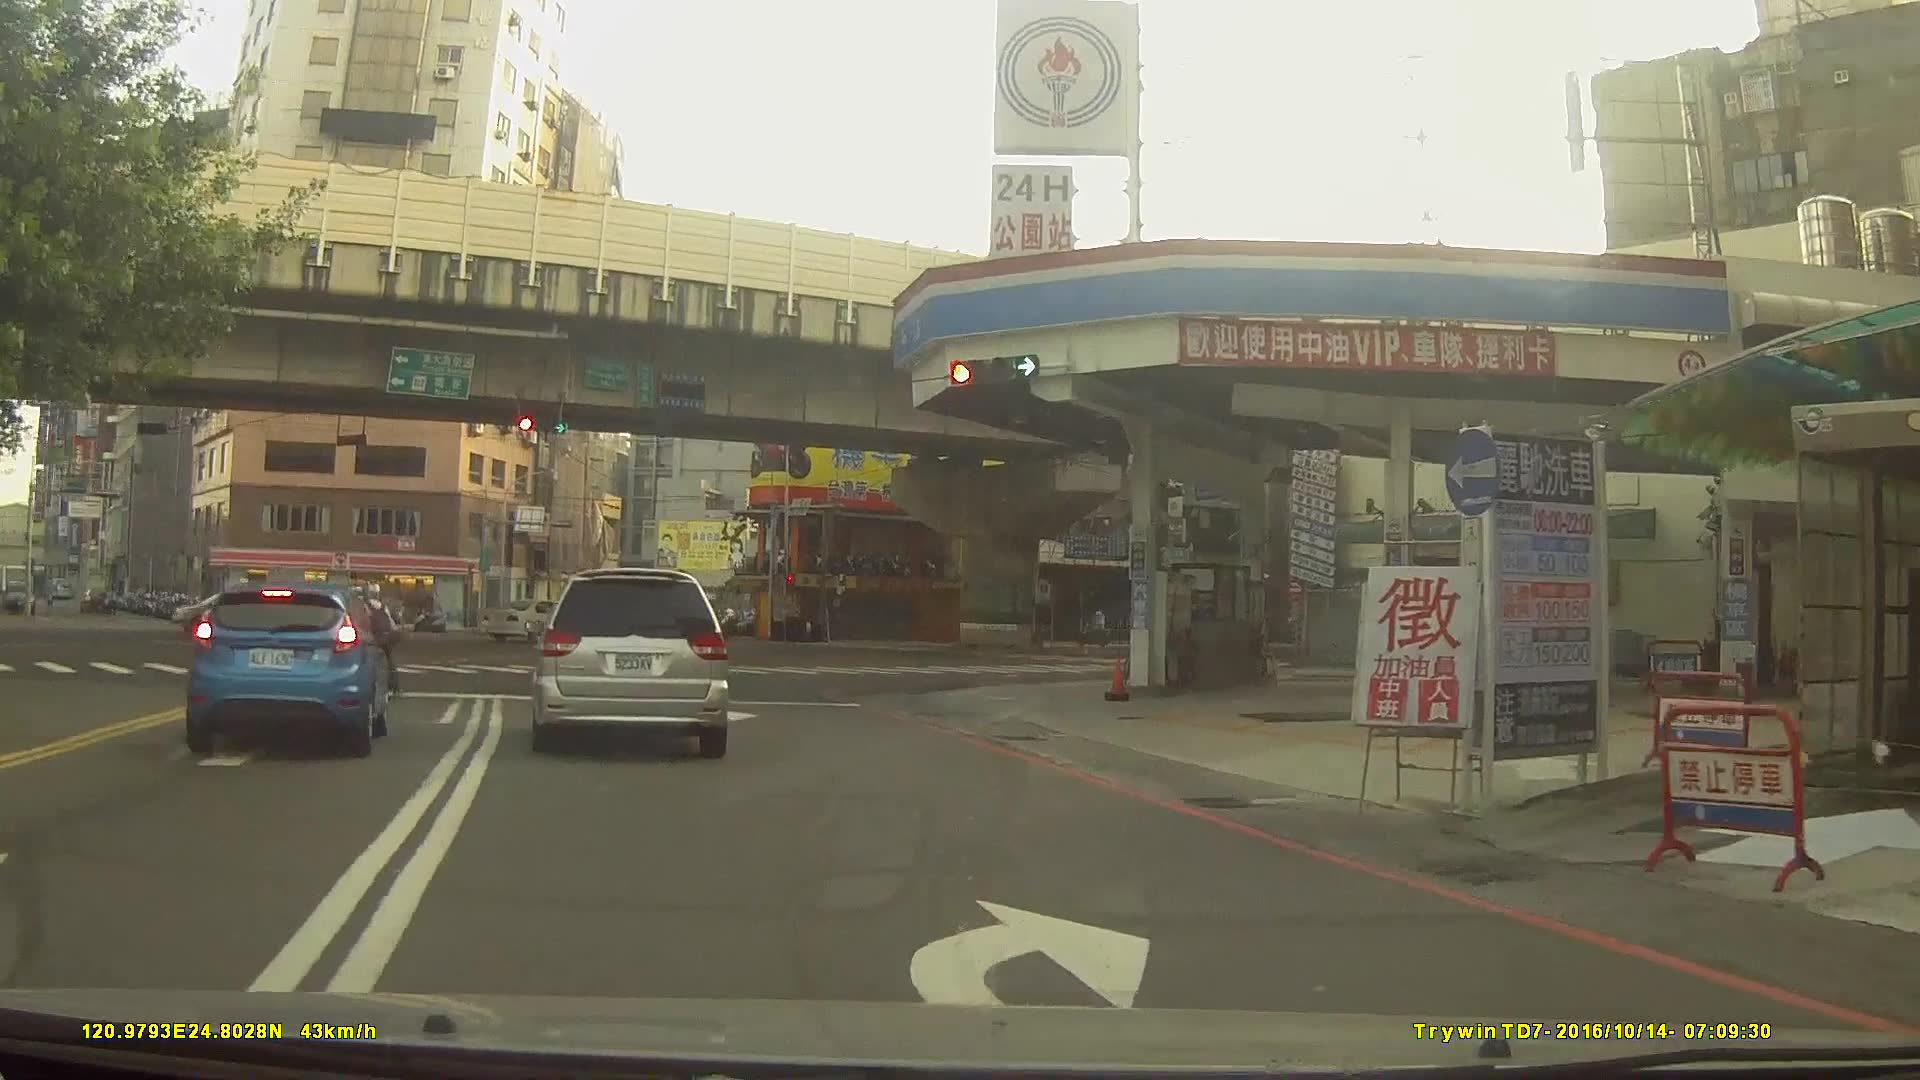rider: (348, 579, 407, 707)
vehicle: (526, 562, 730, 754), (182, 577, 390, 755), (195, 584, 320, 634), (480, 598, 588, 642)
